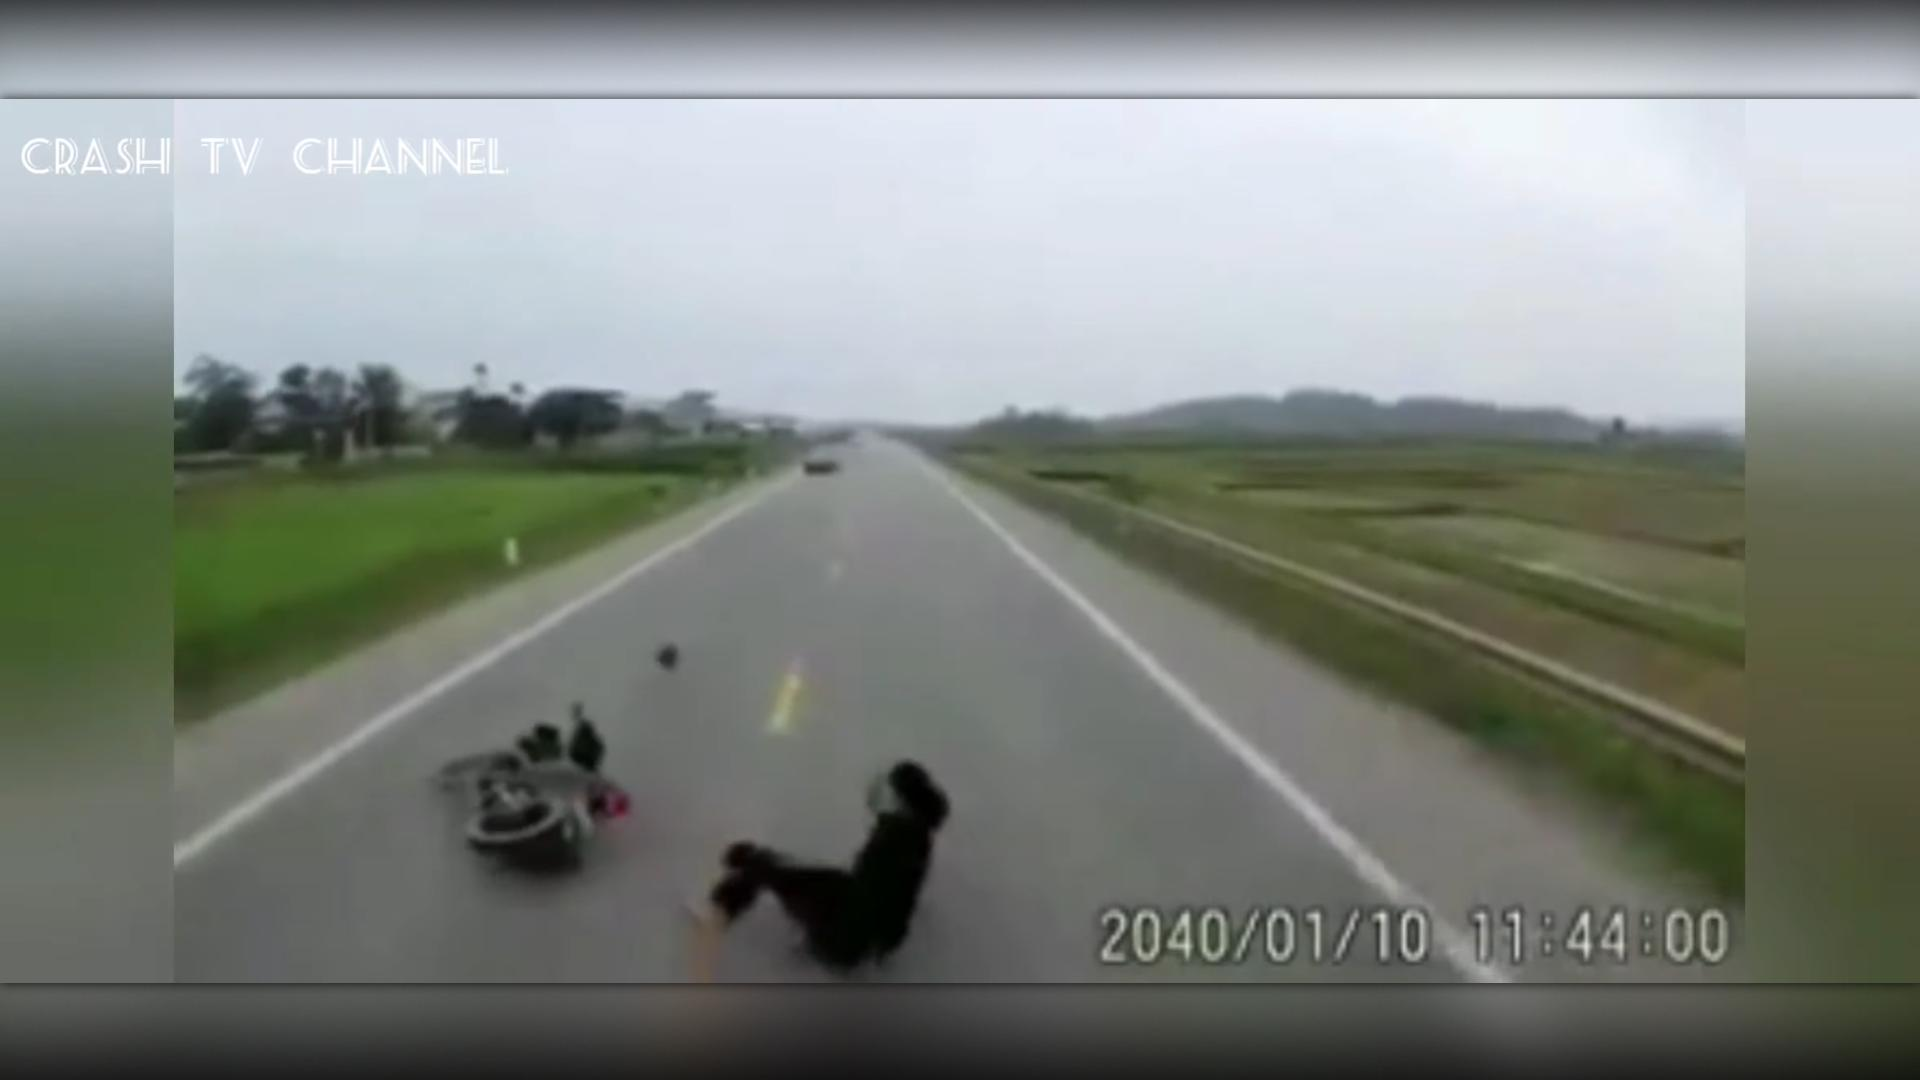accident: (446, 705, 981, 963), (444, 703, 641, 877)
